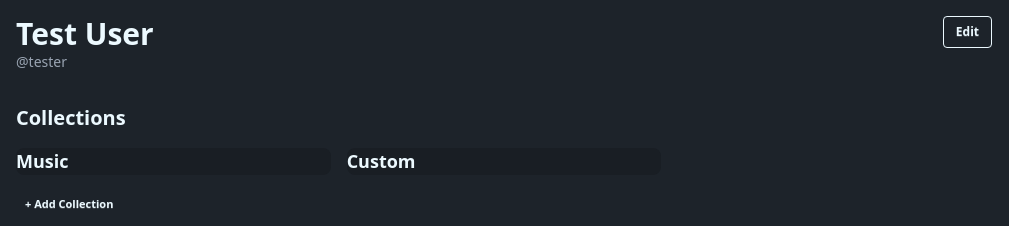
it: UserPage › deletes a non-default collection after confirmation
Expected: the heading "music" is shown, [16,149,68,173]
Click the button "Edit". click: (967, 32)
box: [943,16,992,48]
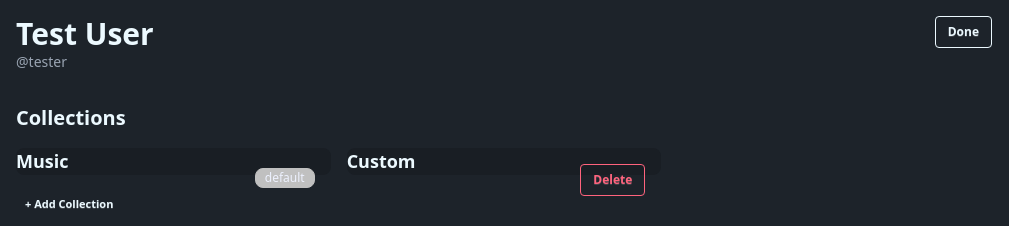
Click the button "Delete". click: (613, 180)
box: [580,164,645,196]
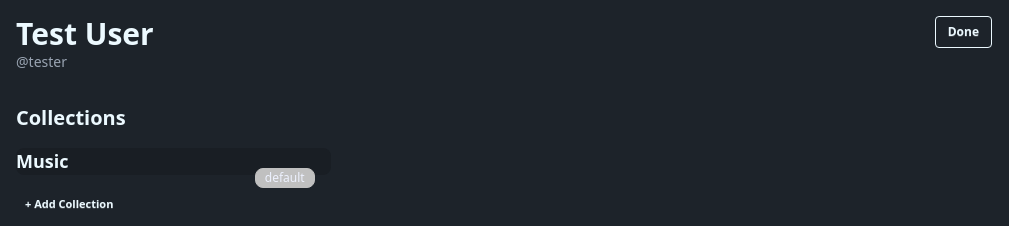
Expected: the link "custom" is gone
